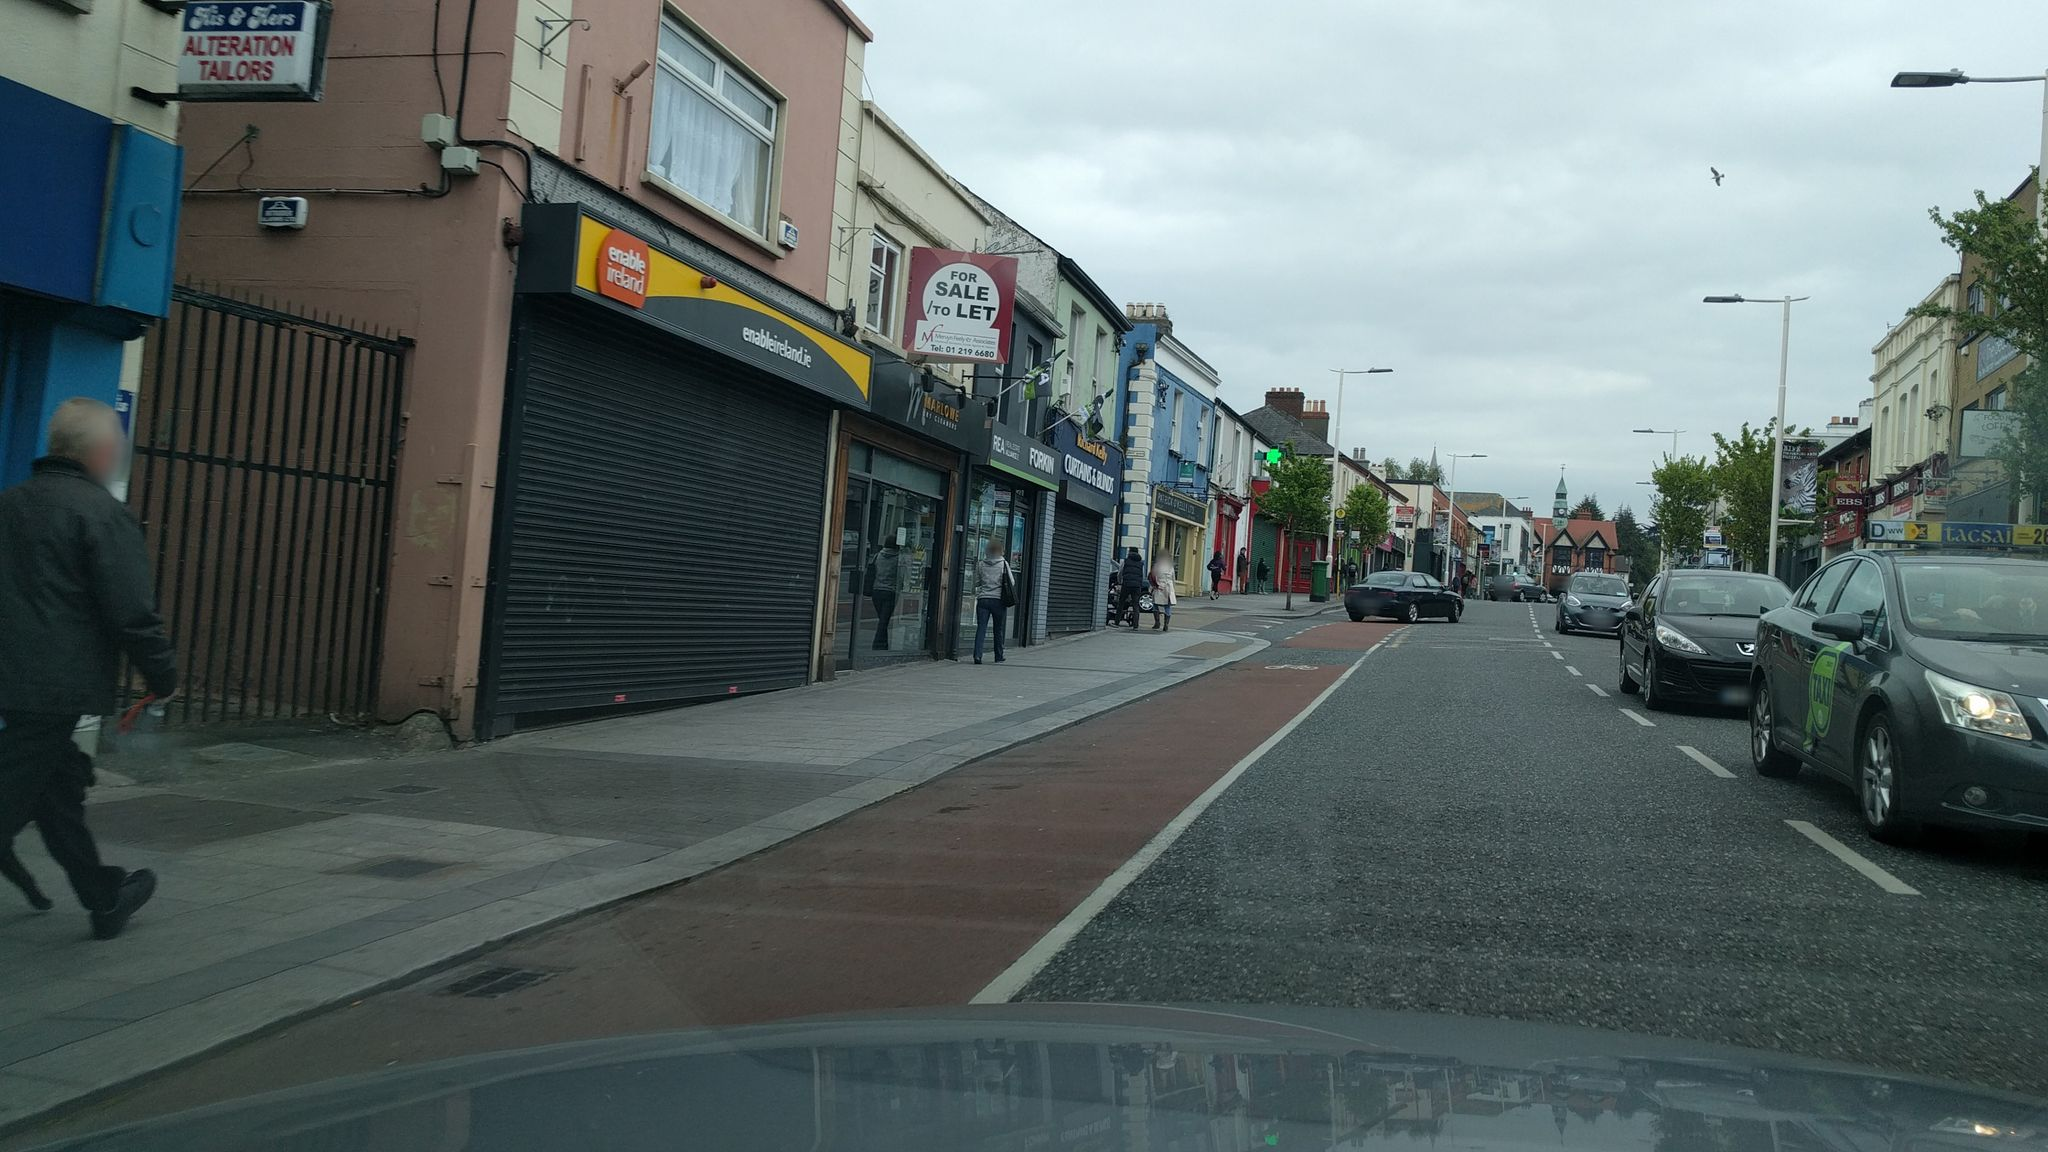property sign: (888, 238, 1023, 378)
